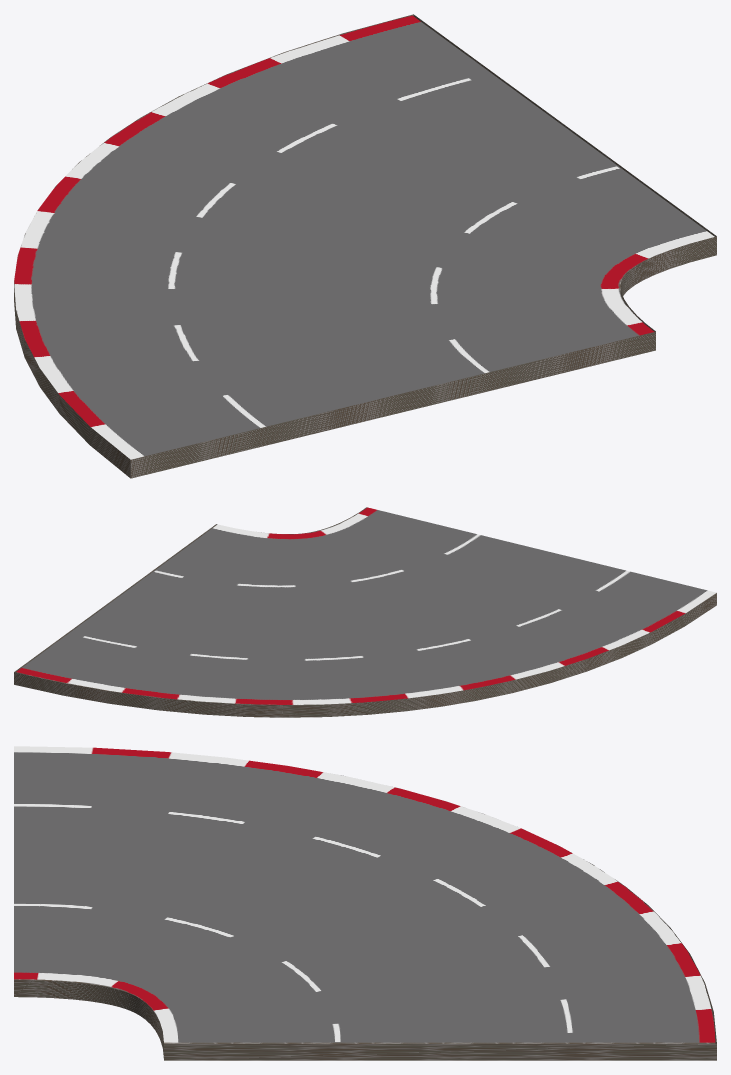
3 views of the same model, one above another, from view 1: azimuth 30°, elevation 25°; view 2: azimuth 150°, elevation 25°; view 3: azimuth 270°, elevation 25° (orthographic). The views are drawn at different scales.
Visible parts, largest first — view 1: 路彎曲; view 2: 路彎曲; view 3: 路彎曲.
Boxes of the visible parts, bbox=[...] form: 路彎曲: bbox=[14, 14, 716, 478]; 路彎曲: bbox=[14, 507, 716, 717]; 路彎曲: bbox=[14, 746, 716, 1060].
Bounding box in the file's own units: 31.43 × 0.85 × 31.4.
2 materials, 2 textured.
